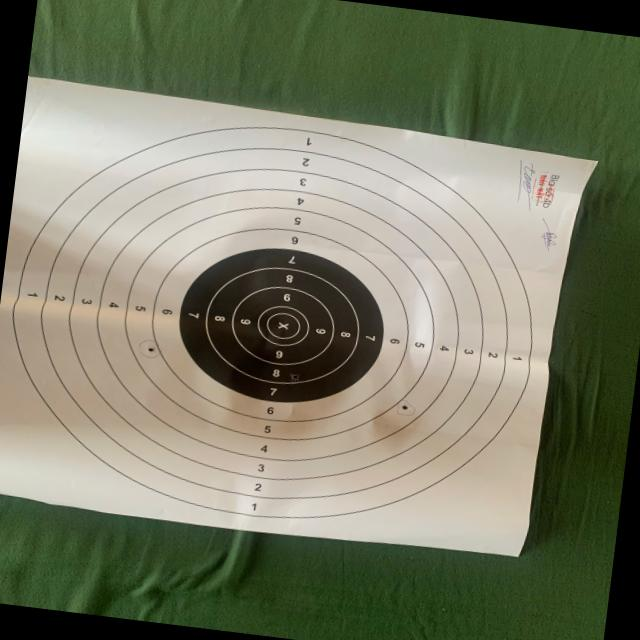bullet: (291, 374, 298, 379), (402, 404, 408, 409), (147, 347, 154, 351)
target: (0, 77, 595, 555)
